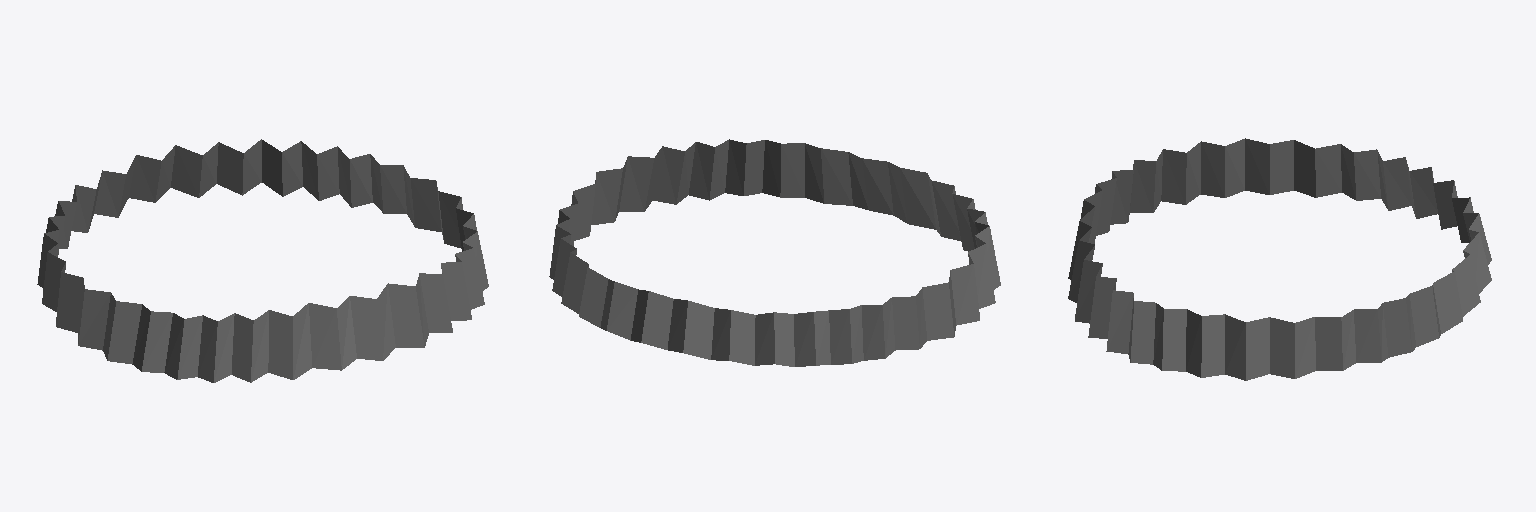
File: LowPoly_FilhaAristocrata_tutu.obj
3 renders of one model, left to right at view 1: azimuth 30°, elevation 25°; view 2: azimuth 150°, elevation 25°; view 3: azimuth 270°, elevation 25°, orthographic.
Visible parts, largest first — view 1: LowPoly_FilhaAristocrata_tutu; view 2: LowPoly_FilhaAristocrata_tutu; view 3: LowPoly_FilhaAristocrata_tutu.
Part boxes in pixels (left/top/right/bottom): LowPoly_FilhaAristocrata_tutu: left=37, top=139, right=488, bottom=382; LowPoly_FilhaAristocrata_tutu: left=549, top=139, right=1000, bottom=366; LowPoly_FilhaAristocrata_tutu: left=1068, top=138, right=1491, bottom=380.
Bounding box in the file's own units: 22.83 × 3.73 × 21.49.